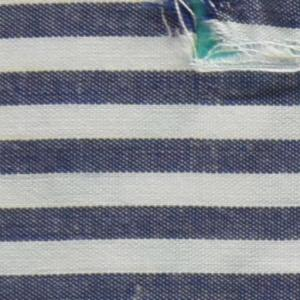Damage: (143, 1, 300, 84)
Wrinkle: (207, 84, 300, 111)
